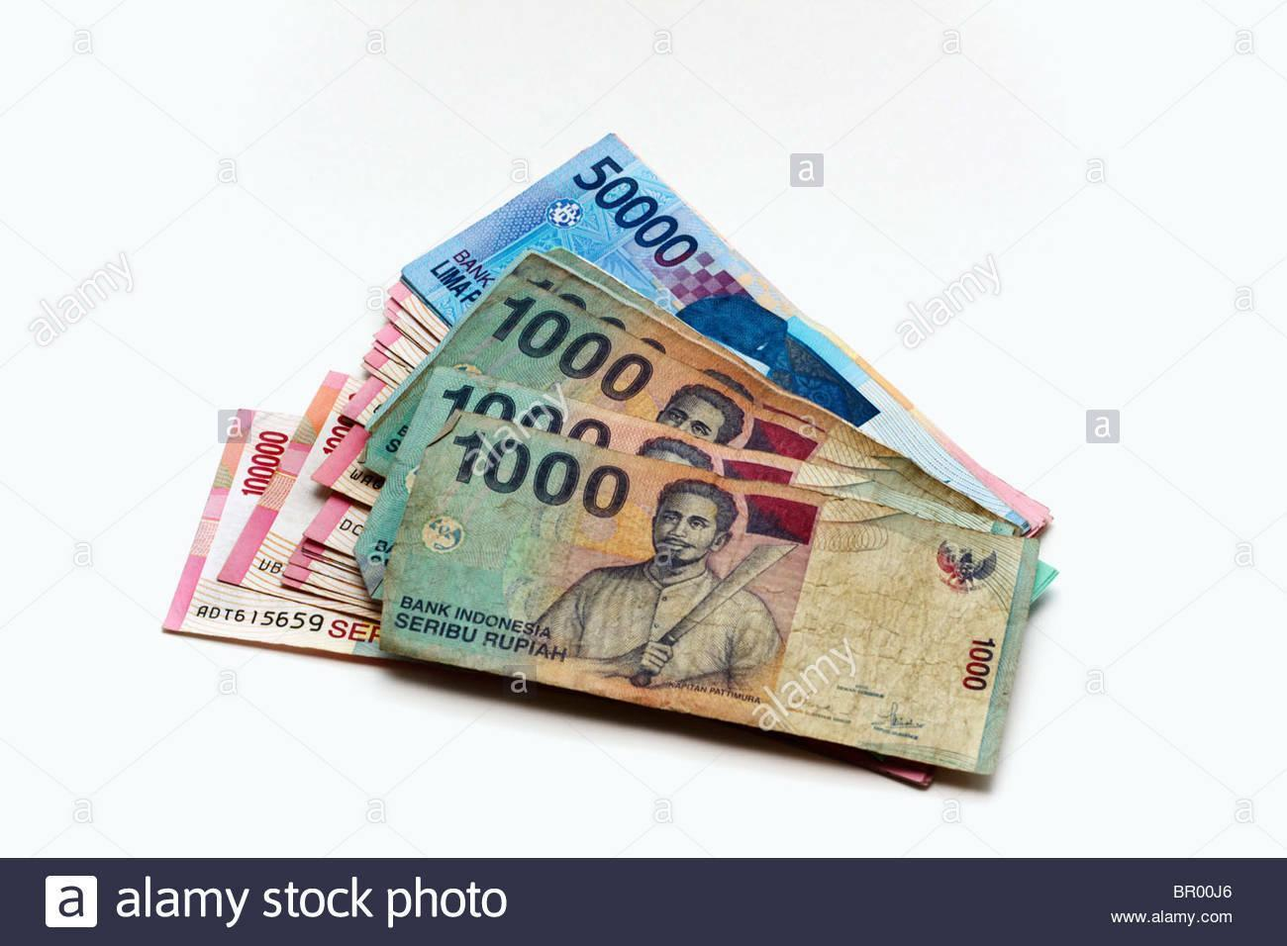1000IndonesianRupiah: (401, 412, 1027, 756)
